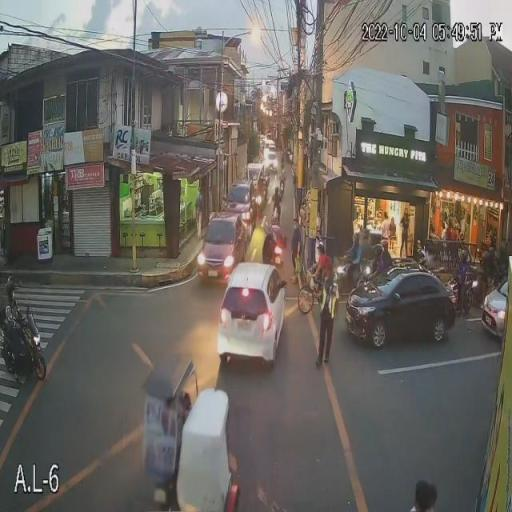helmet: (6, 279, 18, 303)
motorcycle: (0, 330, 49, 380)
rider: (2, 306, 25, 382)
